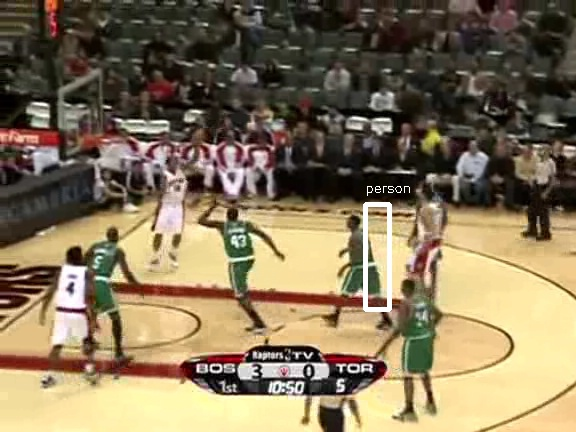person: (346, 224, 380, 305), (345, 224, 379, 305), (347, 224, 381, 305), (346, 223, 380, 304), (346, 225, 380, 306)
target_negative: (43, 58, 304, 281), (154, 18, 359, 205), (401, 133, 528, 180), (168, 375, 211, 431), (113, 362, 127, 405), (454, 427, 489, 432)
